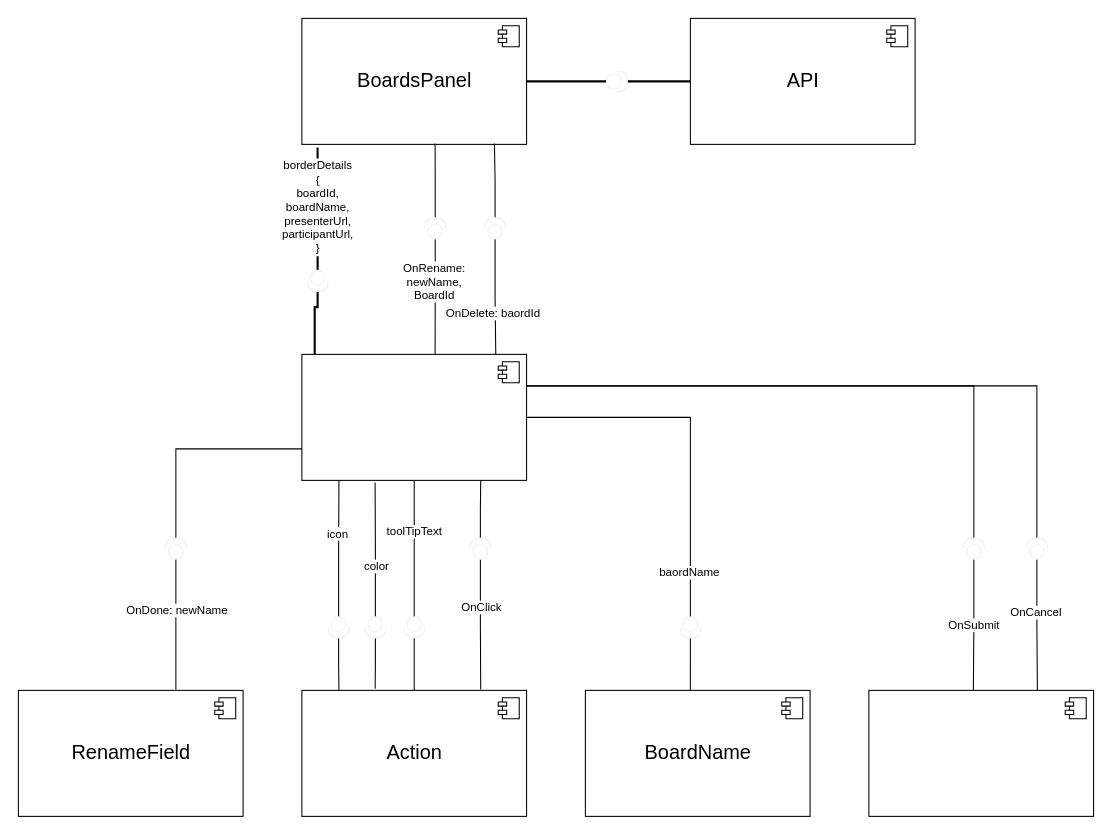
This 1112x835 diagram has some shape labels left out. Here are the shapes that lost their labels. From the top down, the centre of each, then its label:
At point 414,416: "Board".
At point 981,752: "BoardDeleteConfirmation".
